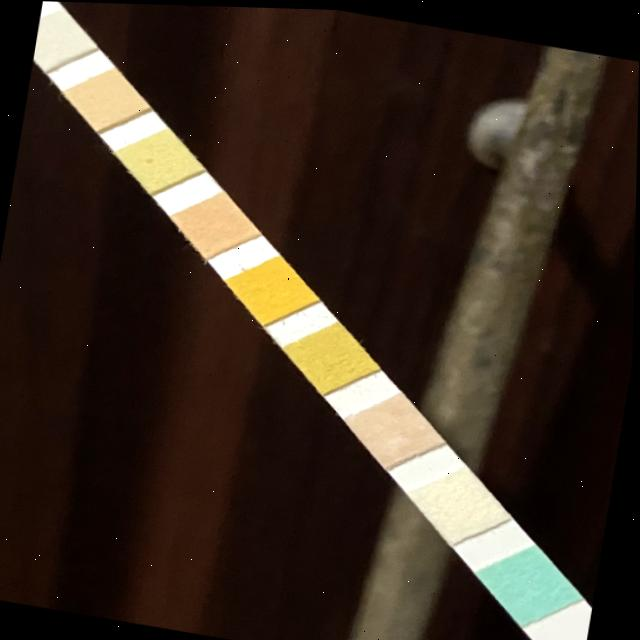Bilirubin: (431, 476, 488, 528)
Blood: (249, 265, 297, 312)
Glucose: (503, 554, 560, 608)
Ketone: (369, 402, 421, 453)
Nitrite: (33, 16, 77, 60)
Protein: (135, 136, 182, 180)
SpGravity: (307, 331, 356, 381)
Urobilinogen: (82, 76, 132, 121)
pH: (192, 200, 239, 247)
